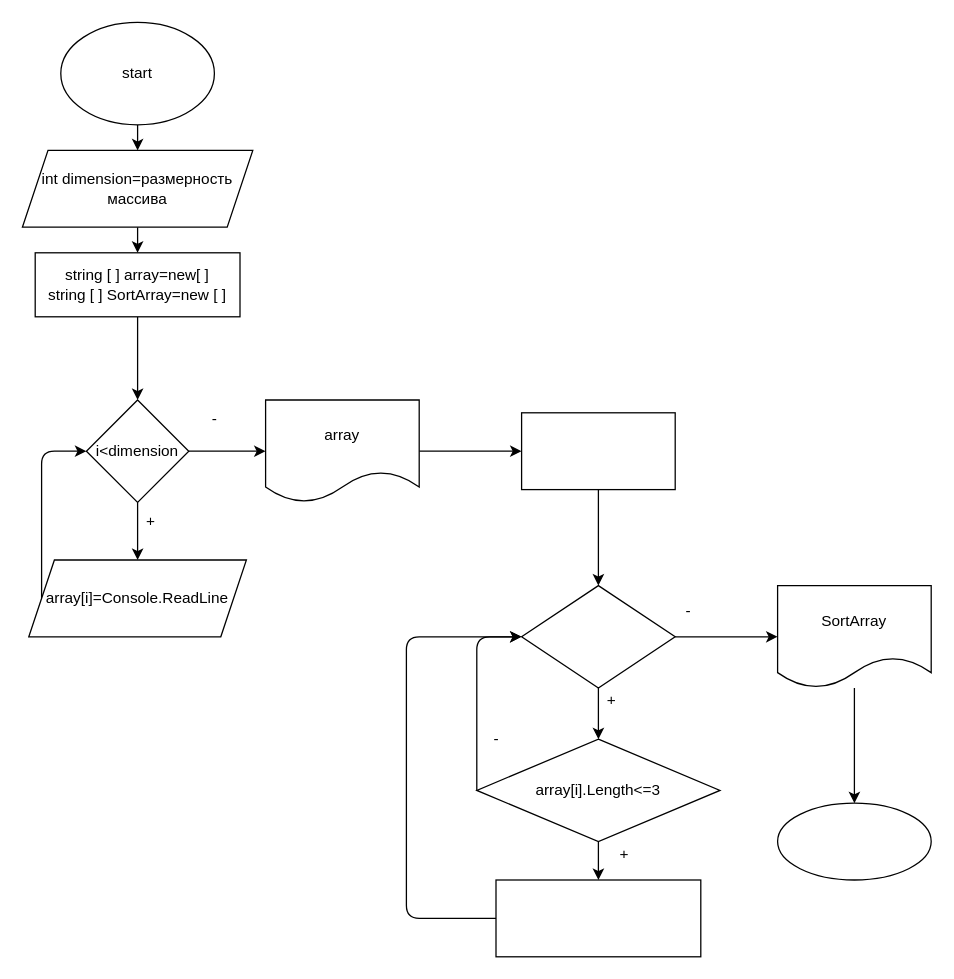
Some shapes in this 954 by 979 pixel diagram are drawn without their labels. Here are the shapes that lost their labels. From the top down, the centre of each, then its label:
At [597,451]: "count=0".
At [597,636]: "i<array.Length".
At [853,841]: "end".
At [598,918]: "SortArray[count]=array[i] count++".
